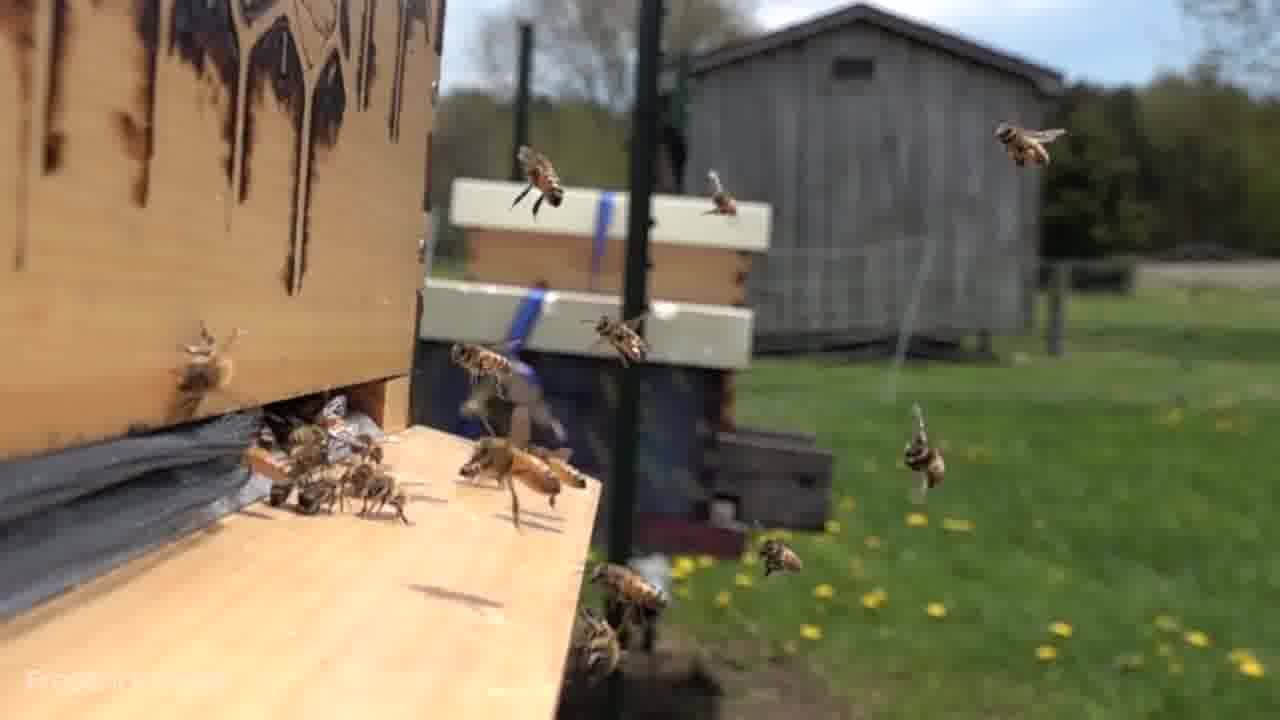pollen: (988, 122, 1063, 169)
